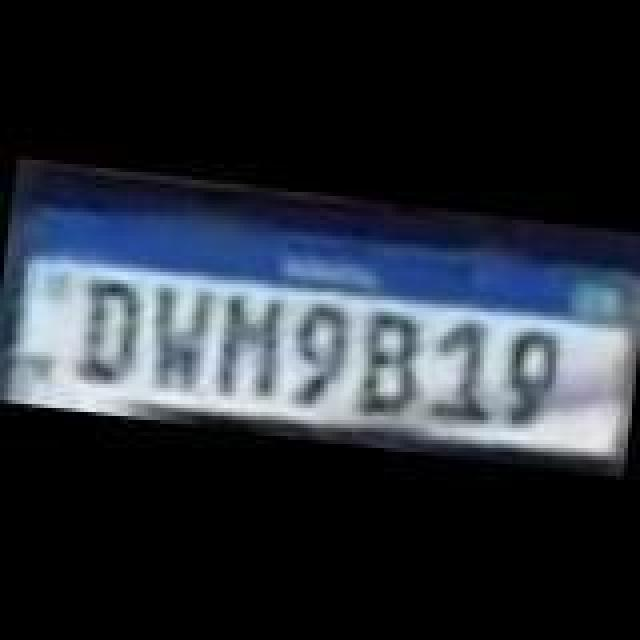1: (426, 316, 502, 436)
9: (496, 316, 568, 436), (284, 294, 356, 410)
B: (358, 306, 426, 422)
D: (70, 274, 146, 390)
M: (214, 294, 290, 410)
W: (144, 286, 224, 402)
